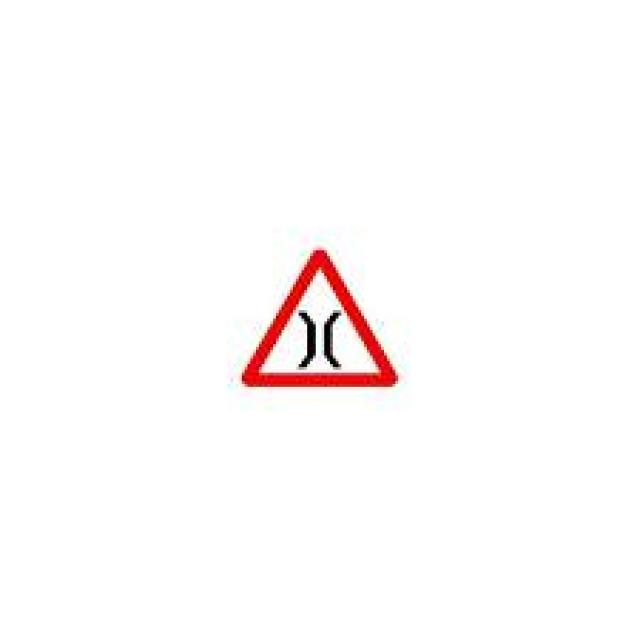Narrow_Bridge: (244, 249, 398, 387)
